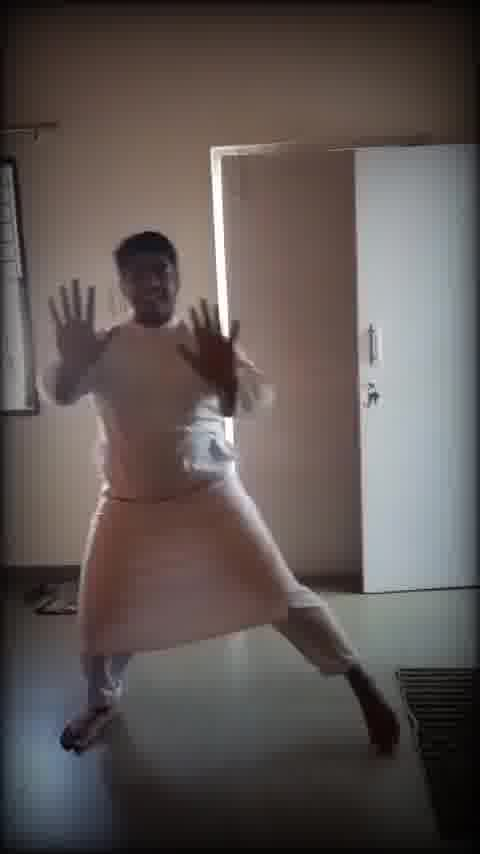duck: (61, 229, 399, 772)
